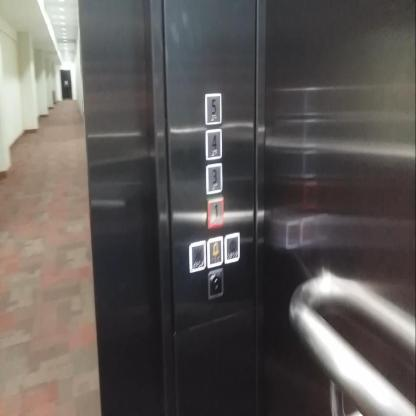1: (207, 197, 223, 229)
3: (205, 163, 222, 193)
4: (206, 128, 222, 160)
5: (205, 92, 221, 124)
alarm: (206, 236, 223, 268)
bt_keyhole: (208, 268, 224, 300)
open: (224, 232, 239, 264)
unknown: (188, 240, 206, 272)
